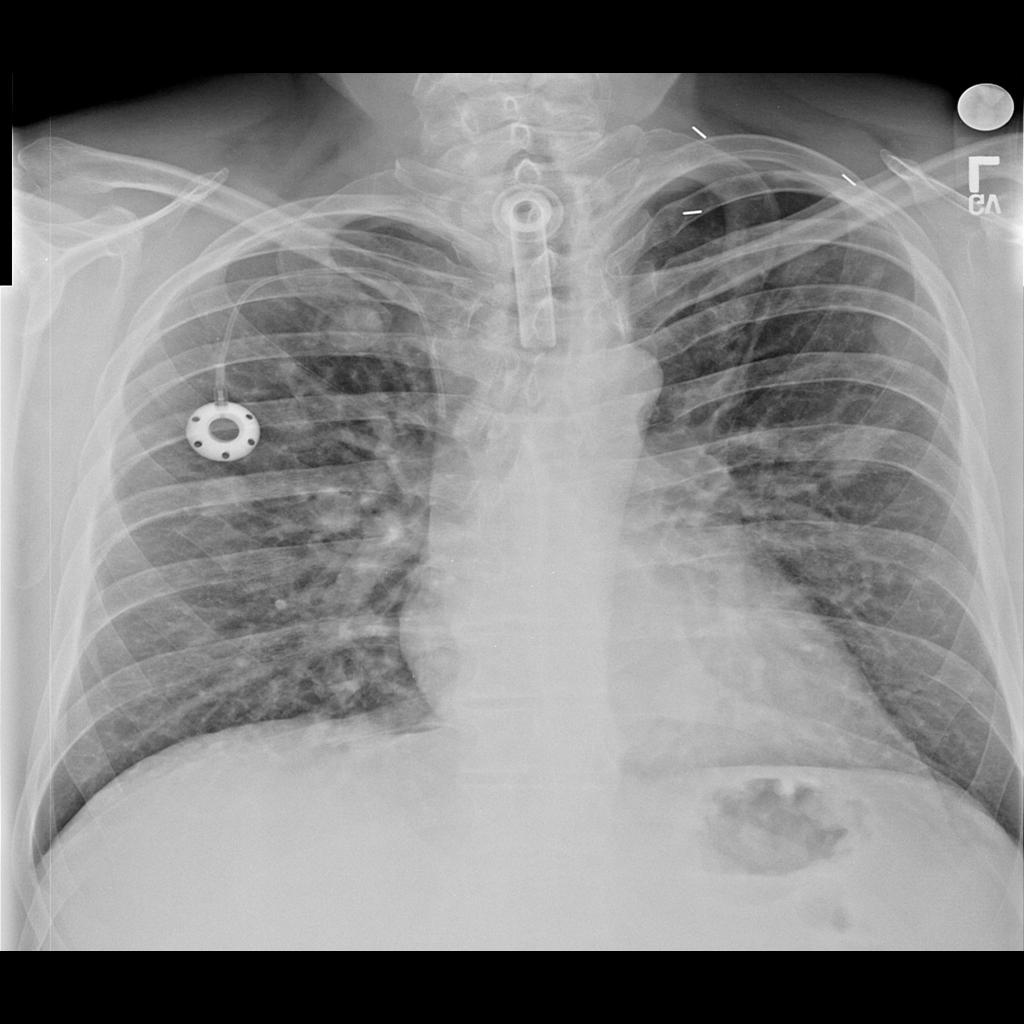Nodule: (327, 309, 386, 349), (197, 478, 253, 518), (307, 493, 369, 528)
